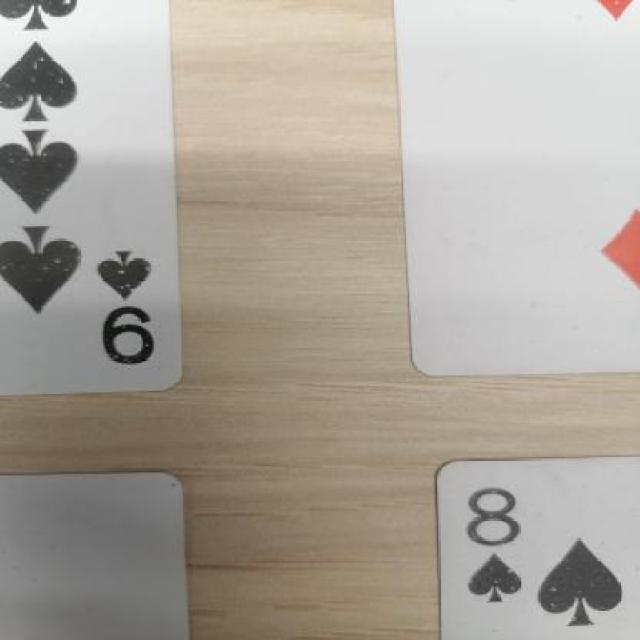8S: (459, 469, 535, 616)
9S: (73, 248, 187, 388)
